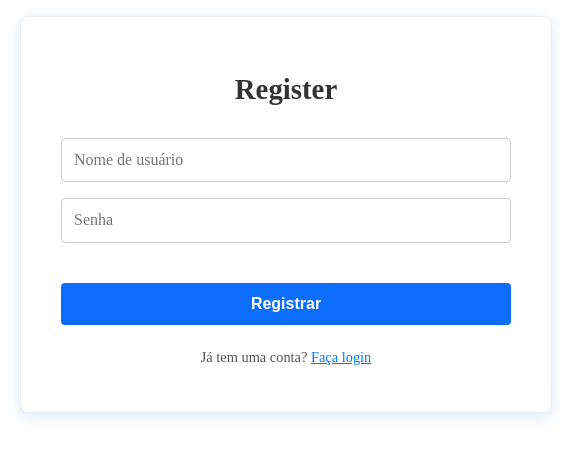
Test case: Página Register › deve exibir mensagem de erro se ocorrer erro no servidor (erro 500)
The width and height of the screenshot is (573, 471).
Type "servererror" into the field with placeholder "Nome de usuário" at coordinates (286, 160), box [61,138,511,182]
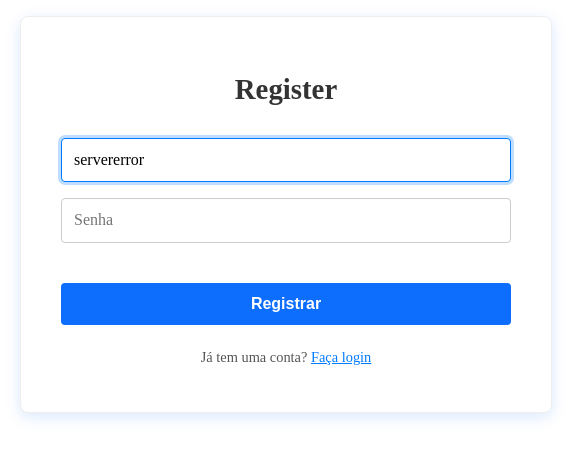
Type "anypassword" into the password field with placeholder "Senha" at coordinates (286, 220), box [61,198,511,243]
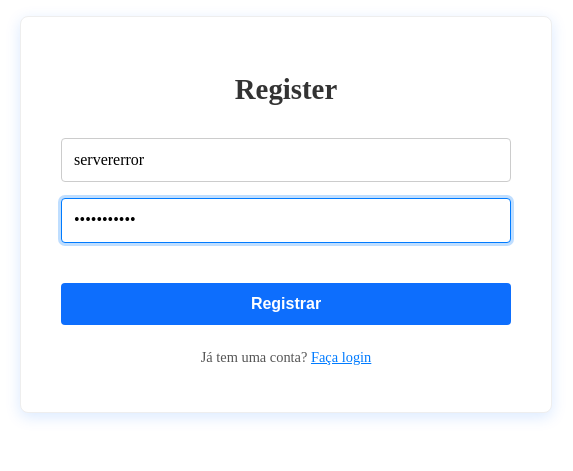
Click the button "Registrar" at coordinates (286, 304), box [61,283,511,325]
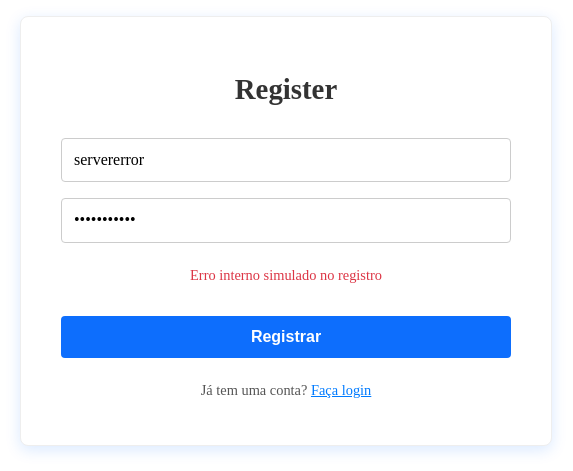
Now the text "Erro interno simulado no registro" is shown, box [190,267,382,283]
